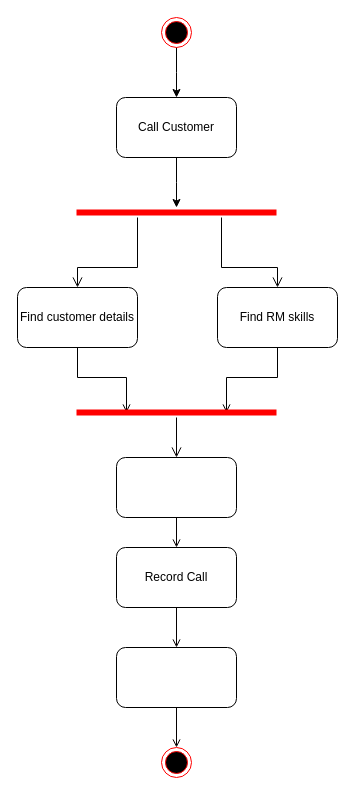
Some shapes in this 355 by 795 pixel diagram are drawn without their labels. Each missing label, with the centre of its shape:
"Match customer with RM" belongs at point (176, 487).
"Update scores" belongs at point (176, 677).
